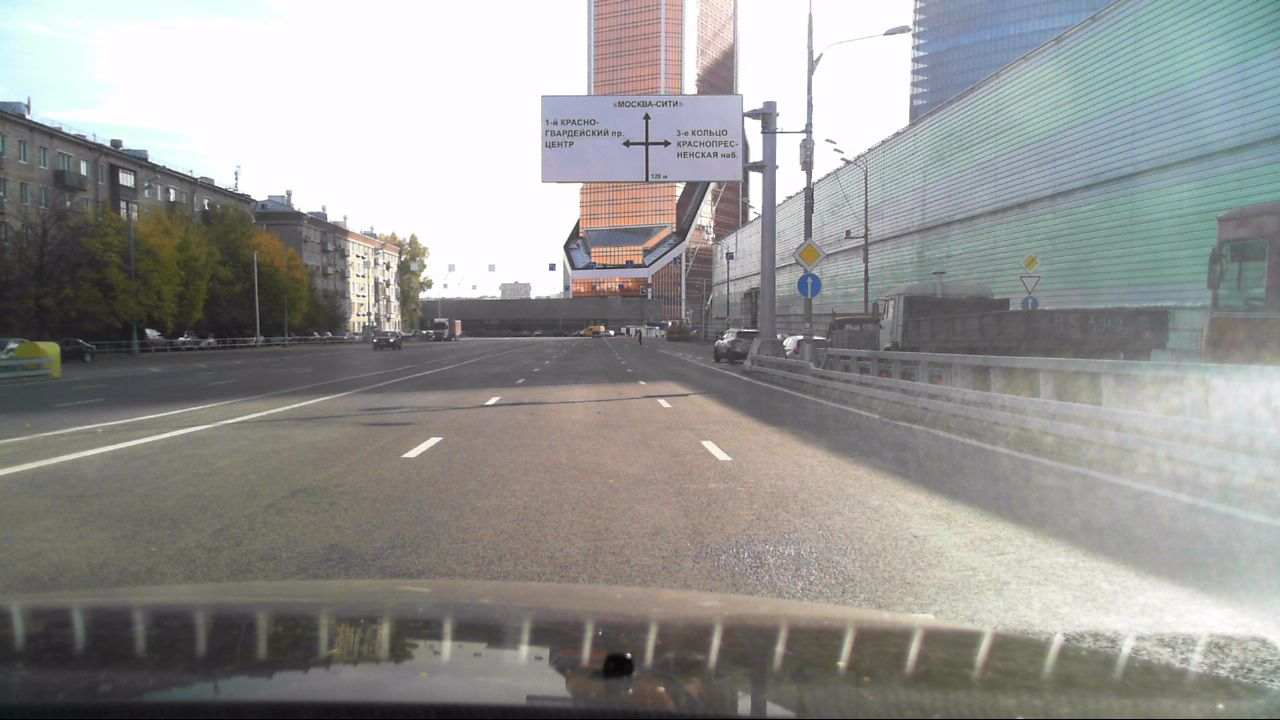main road: (1020, 250, 1044, 273)
